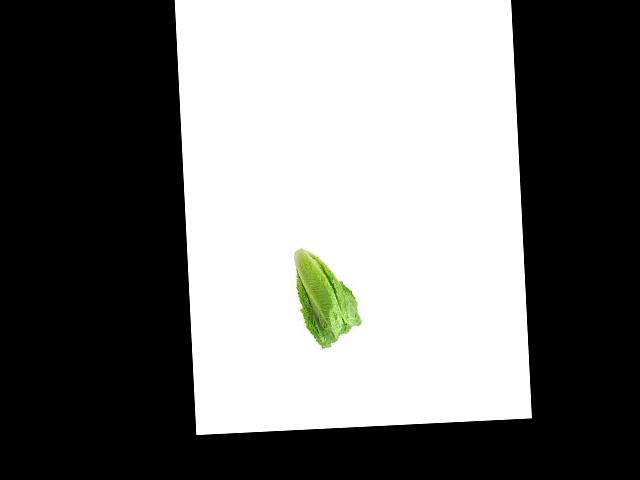lettuce: (273, 254, 369, 366)
